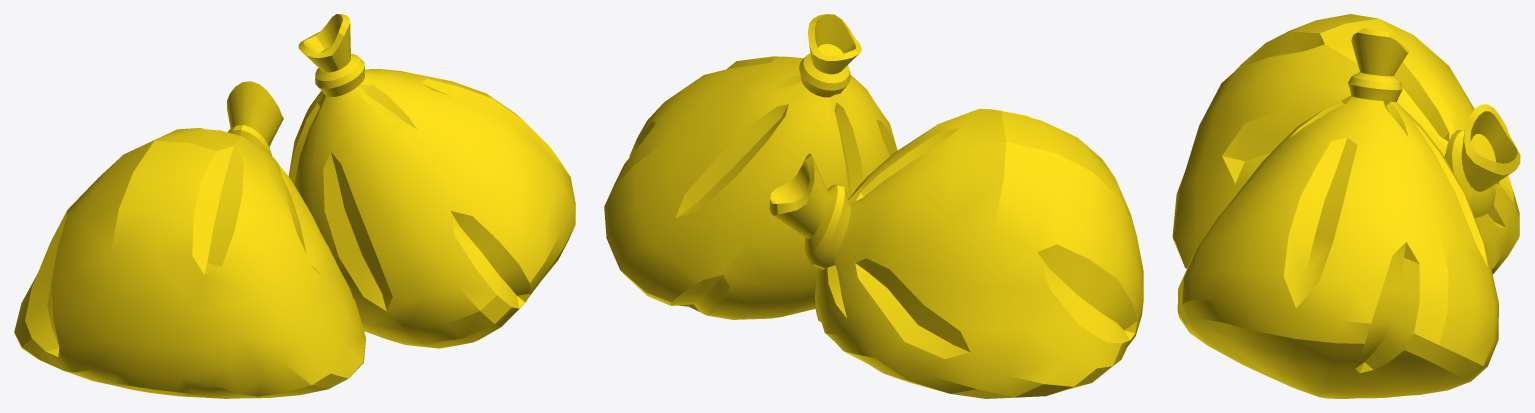
File: plastico.glb
The picture shows the model from 3 angles, left to right: view 1: azimuth 30°, elevation 25°; view 2: azimuth 150°, elevation 25°; view 3: azimuth 270°, elevation 25°; orthographic projection. The views are drawn at different scales.
Parts seen in each view (by area): view 1: TrashBag_2; view 2: TrashBag_2; view 3: TrashBag_2.
Part boxes in pixels (x1,y1,x2,y2): TrashBag_2: (14,14,575,398); TrashBag_2: (604,14,1143,398); TrashBag_2: (1172,14,1520,398).
Bounding box in the file's own units: 0.9061 × 0.53 × 0.5243.
